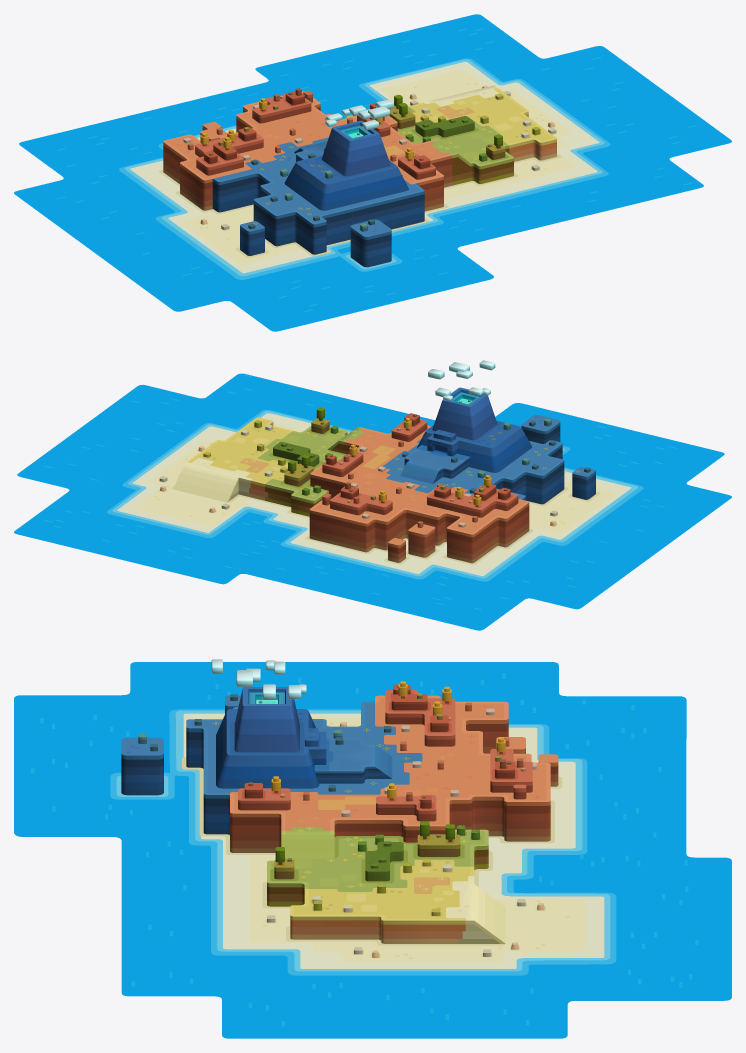
File: Volcano Island.obj
The picture shows the model from 3 angles, top to bottom: view 1: azimuth 30°, elevation 25°; view 2: azimuth 150°, elevation 25°; view 3: azimuth 270°, elevation 25°; orthographic projection. The views are drawn at different scales.
Parts seen in each view (by area): view 1: island_02_sea, island_02_01_base, island_02_05_base, island_02_04_base, island_02_05_flora, island_02_04_flora, island_02_02_base, island_02_03_base, island_02_03_flora, island_02_02_flora; view 2: island_02_sea, island_02_01_base, island_02_04_base, island_02_05_flora, island_02_04_flora, island_02_05_base, island_02_02_base, island_02_03_base, island_02_03_flora, island_02_02_flora; view 3: island_02_sea, island_02_01_base, island_02_04_base, island_02_05_flora, island_02_04_flora, island_02_02_base, island_02_05_base, island_02_03_base, island_02_03_flora, island_02_02_flora, island_02_01_flora.
Boxes of the visible parts, x1,y1,x2,y2 form: island_02_sea: (14,14,731,331); island_02_01_base: (130,62,599,273); island_02_05_base: (212,137,424,267); island_02_04_base: (163,91,452,211); island_02_05_flora: (248,120,408,231); island_02_04_flora: (177,88,435,179); island_02_02_base: (409,88,556,161); island_02_03_base: (346,106,513,185); island_02_03_flora: (389,94,509,162); island_02_02_flora: (420,93,541,138); island_02_sea: (14,373,731,630); island_02_01_base: (117,413,631,575); island_02_04_base: (309,425,529,563); island_02_05_flora: (394,387,590,493); island_02_04_flora: (318,413,518,527); island_02_05_base: (383,415,595,504); island_02_02_base: (188,417,292,500); island_02_03_base: (258,426,364,516); island_02_03_flora: (268,407,356,496); island_02_02_flora: (202,420,287,478); island_02_sea: (14,662,731,1038); island_02_01_base: (182,713,604,968); island_02_04_base: (230,695,558,852); island_02_05_flora: (126,687,410,792); island_02_04_flora: (238,681,540,822); island_02_02_base: (290,860,474,943); island_02_05_base: (121,695,422,834); island_02_03_base: (267,827,488,906); island_02_03_flora: (270,821,481,887); island_02_02_flora: (311,859,453,916); island_02_01_flora: (263,722,569,958).
Bounding box in the file's own units: 105 × 18.64 × 84.57.
